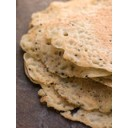dosa: (22, 1, 112, 128)
